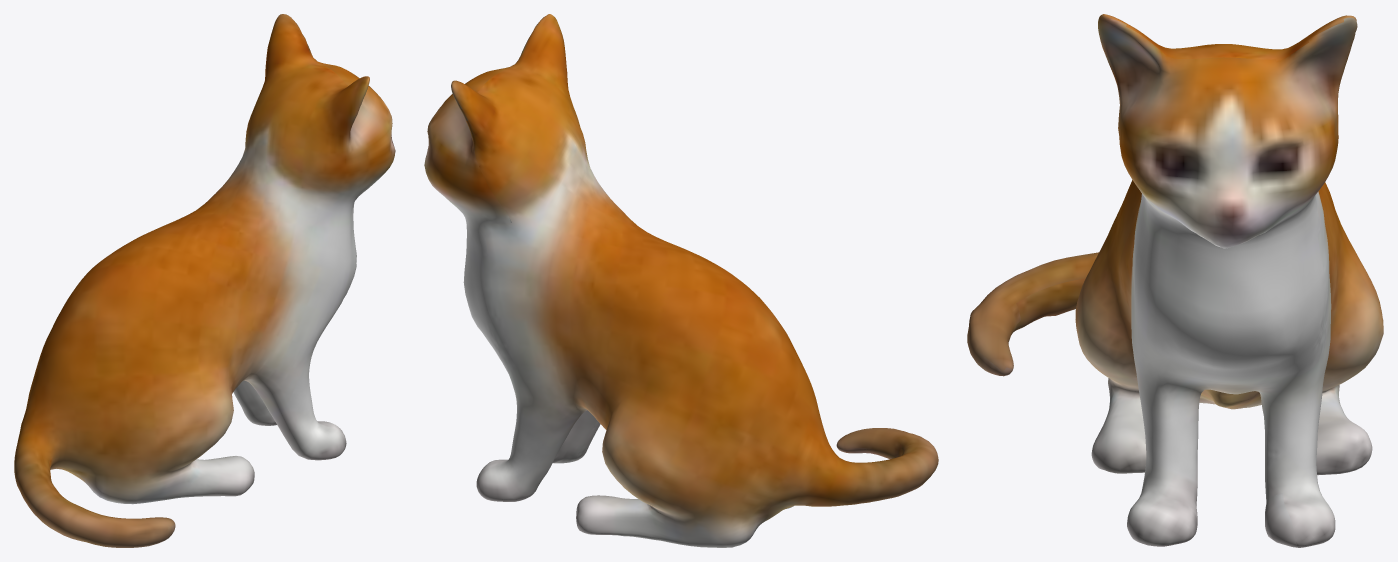
Rendered from orange_stray_kitten_game.glb.
3 views of the same model, side by side, from view 1: azimuth 30°, elevation 25°; view 2: azimuth 150°, elevation 25°; view 3: azimuth 270°, elevation 25° (orthographic). The views are drawn at different scales.
Parts seen in each view (by area): view 1: Object_4; view 2: Object_4; view 3: Object_4.
Boxes of the visible parts, x1,y1,x2,y2 form: Object_4: [14, 14, 395, 547]; Object_4: [424, 14, 938, 547]; Object_4: [967, 14, 1383, 547].
Size of the model in its own units: 0.7369 by 0.669 by 0.4632.
1 material, 1 textured.
